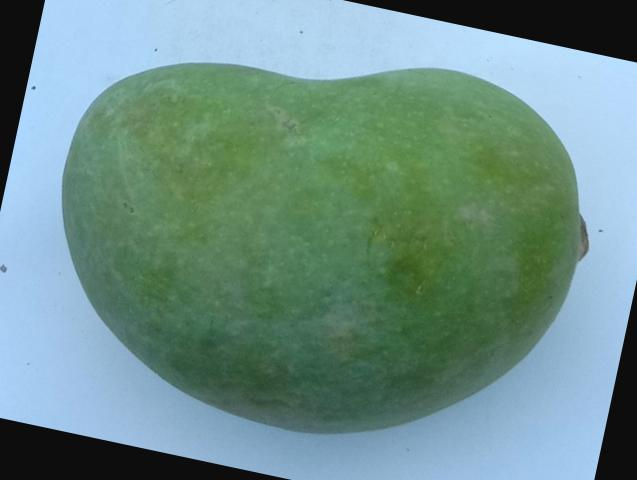Mango Unripe: (1, 0, 631, 480)
